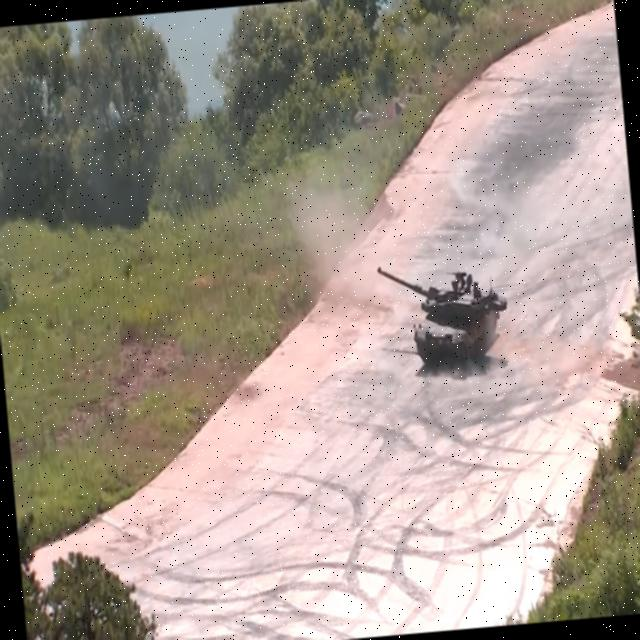korea tank: (376, 254, 514, 372)
